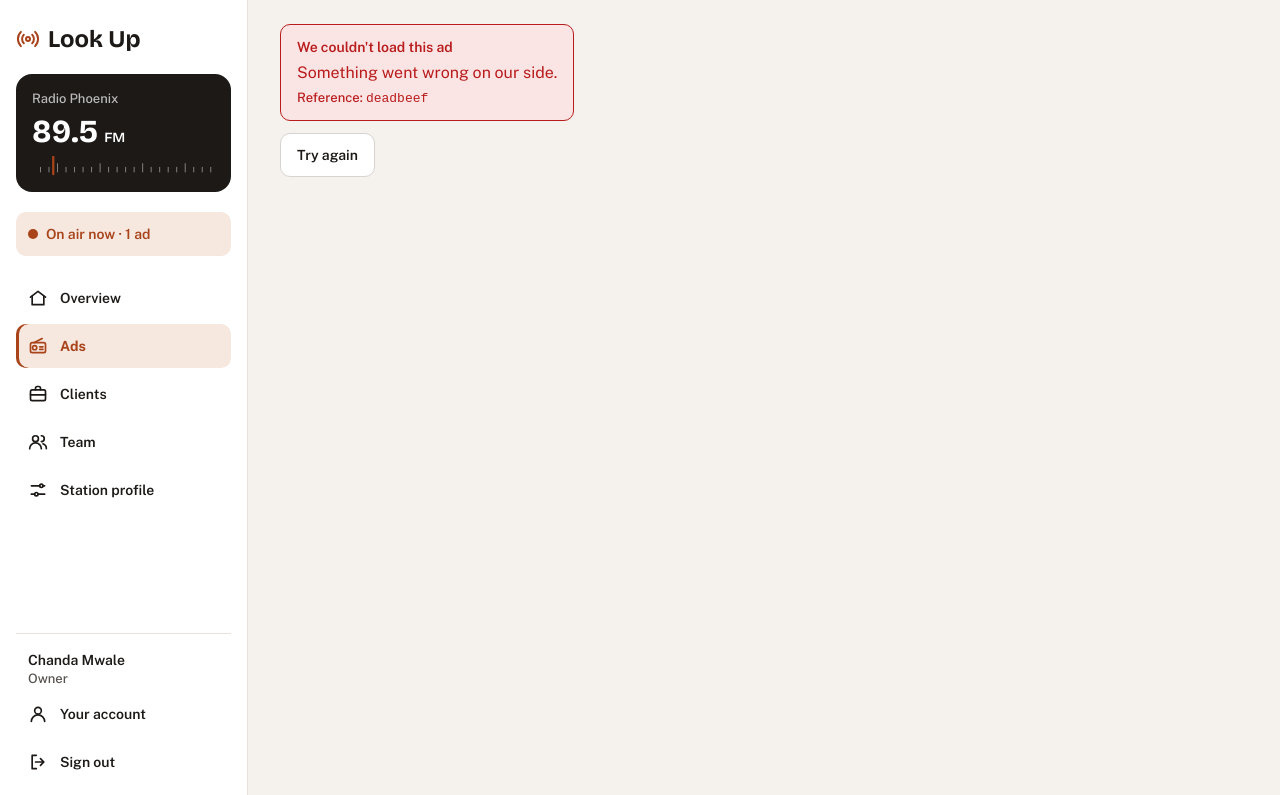
Ad page › states › explains any other failure with its reference, and tries again on request
This screenshot has width=1280, height=795.
expect the message shows "We couldn't load this ad": met, box x1=297 y1=39 x2=453 y2=55
expect the message shows "Reference: deadbeef": met, box x1=280 y1=24 x2=574 y2=121
Click the button "Try again" at point(328, 155), box x1=280 y1=133 x2=375 y2=177
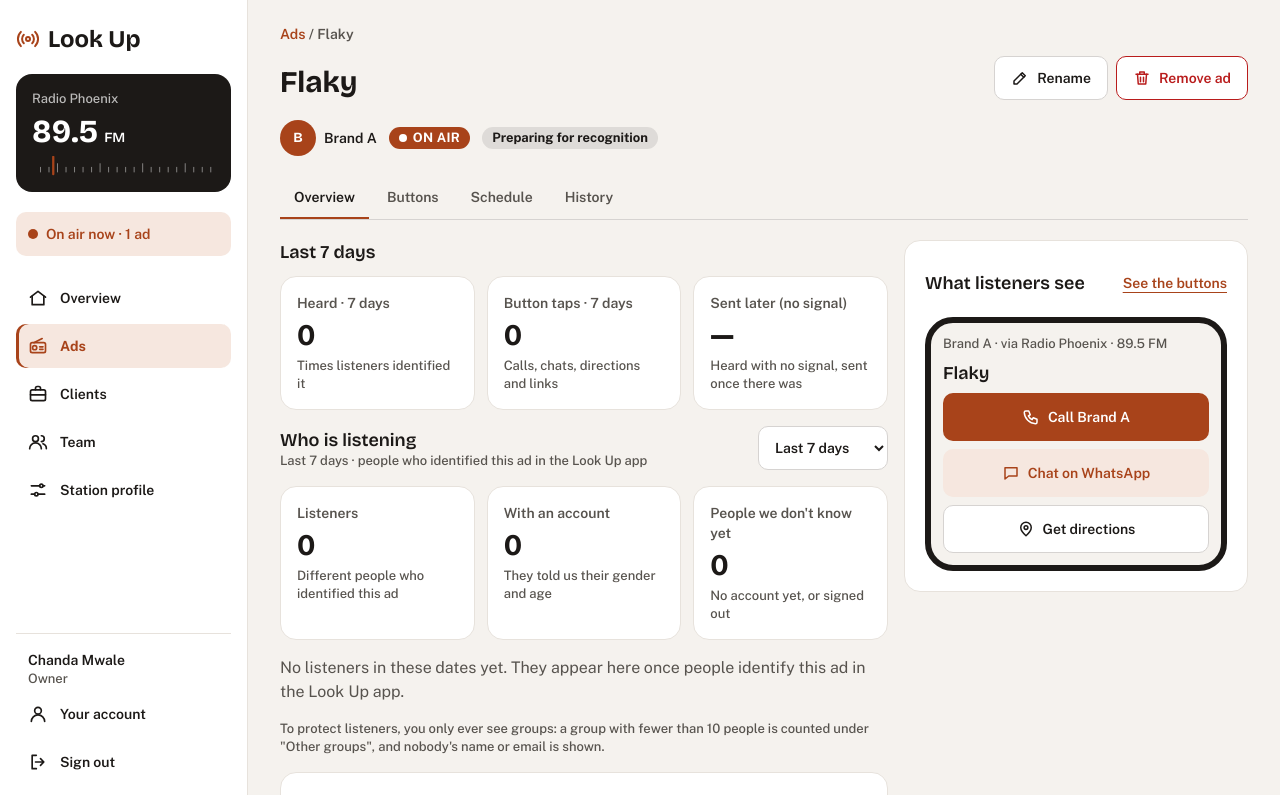
expect the heading "Flaky" is shown: met, box x1=280 y1=64 x2=358 y2=100
